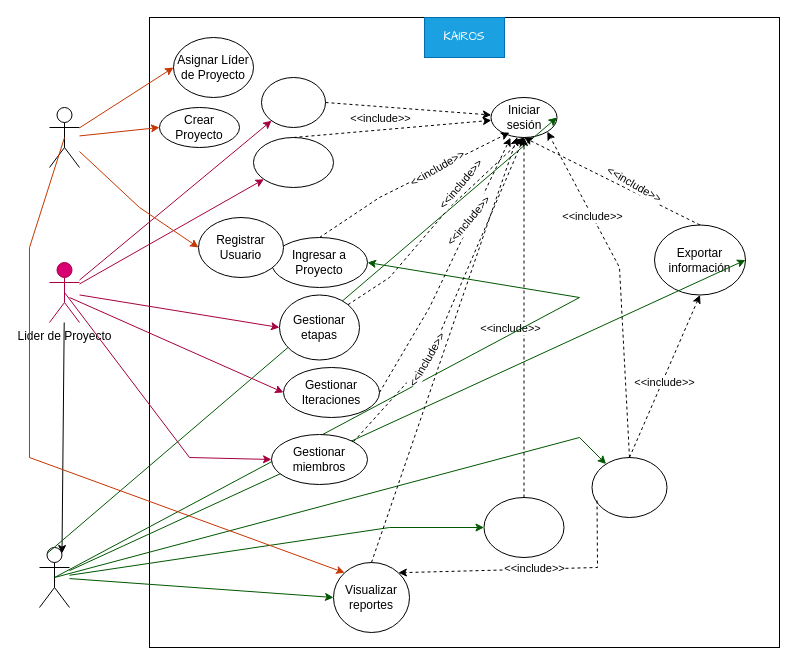
Some shapes in this 797 by 665 pixel diagram are drawn without their labels. The centre of each missing label's shape, as x and y in pixels:
Administrador: the point at 64,137
Asignar Rol: the point at 293,162
Gestionar proyecto: the point at 293,102
Gestionar tareas: the point at 629,487
Gestionar tiempos: the point at 523,527
Miembro: the point at 54,577
